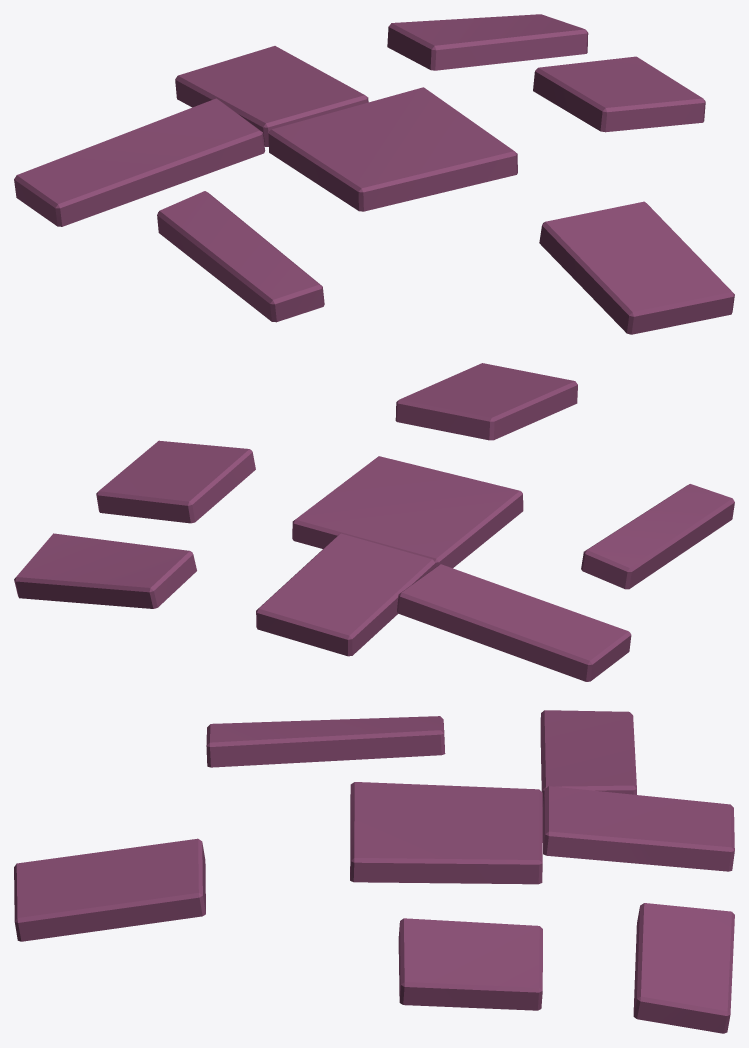
File: SM_floorTiles02_low.fbx
The picture shows the model from 3 angles, top to bottom: view 1: azimuth 30°, elevation 25°; view 2: azimuth 150°, elevation 25°; view 3: azimuth 270°, elevation 25°; orthographic projection. The views are drawn at different scales.
Parts seen in each view (by area): view 1: Plane.012; view 2: Plane.012; view 3: Plane.012.
Part boxes in pixels (x1,y1,x2,y2): Plane.012: [14, 14, 734, 334]; Plane.012: [14, 363, 734, 681]; Plane.012: [14, 710, 734, 1033].
Bounding box in the file's own units: 548 × 63.25 × 575.
